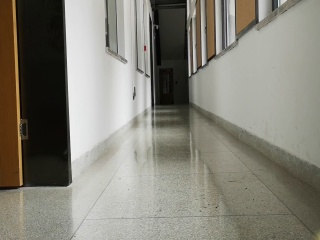room: (2, 2, 77, 190)
